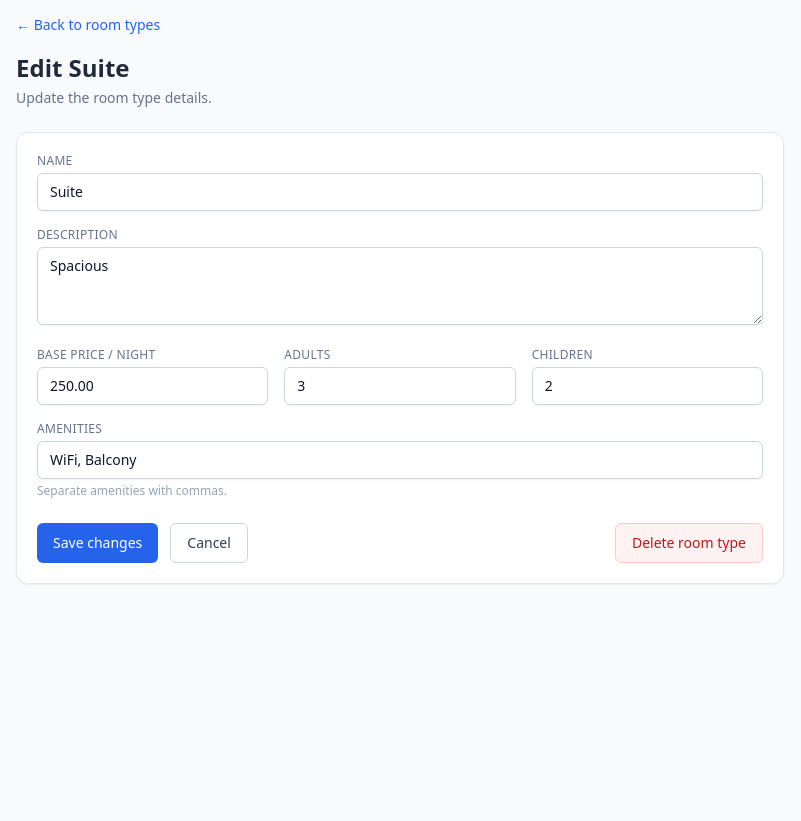
Test: Staff room type form page › surfaces the 409 server message when a room type has physical rooms
This screenshot has width=801, height=821.
Step 1. Click the button "Delete room type" → (689,543), box [615,523,763,563]
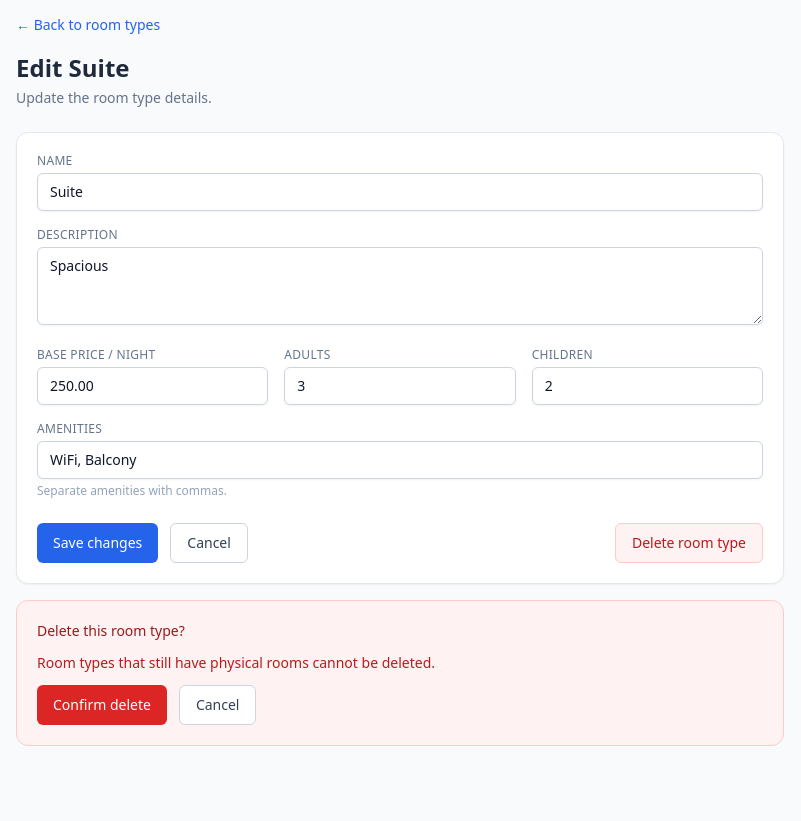
Step 2. Click the button "Confirm delete" → (102,705), box [37,685,167,725]
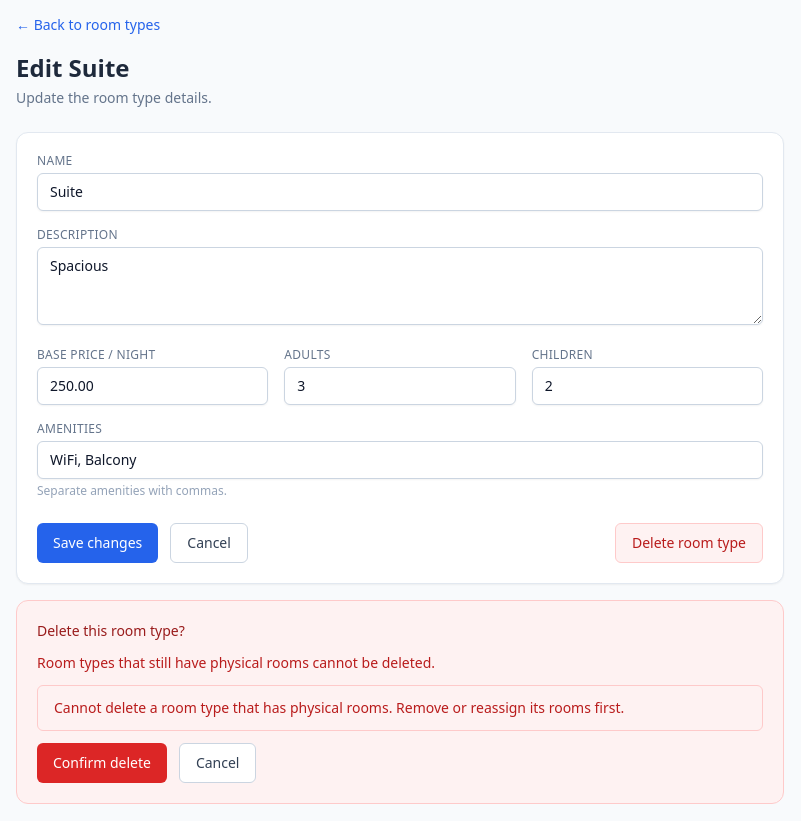
expect the button "Delete room type" is shown: met, box [615,523,763,563]
expect the text "Cannot delete a room type that has physical rooms." is shown: met, box [54,698,624,717]
